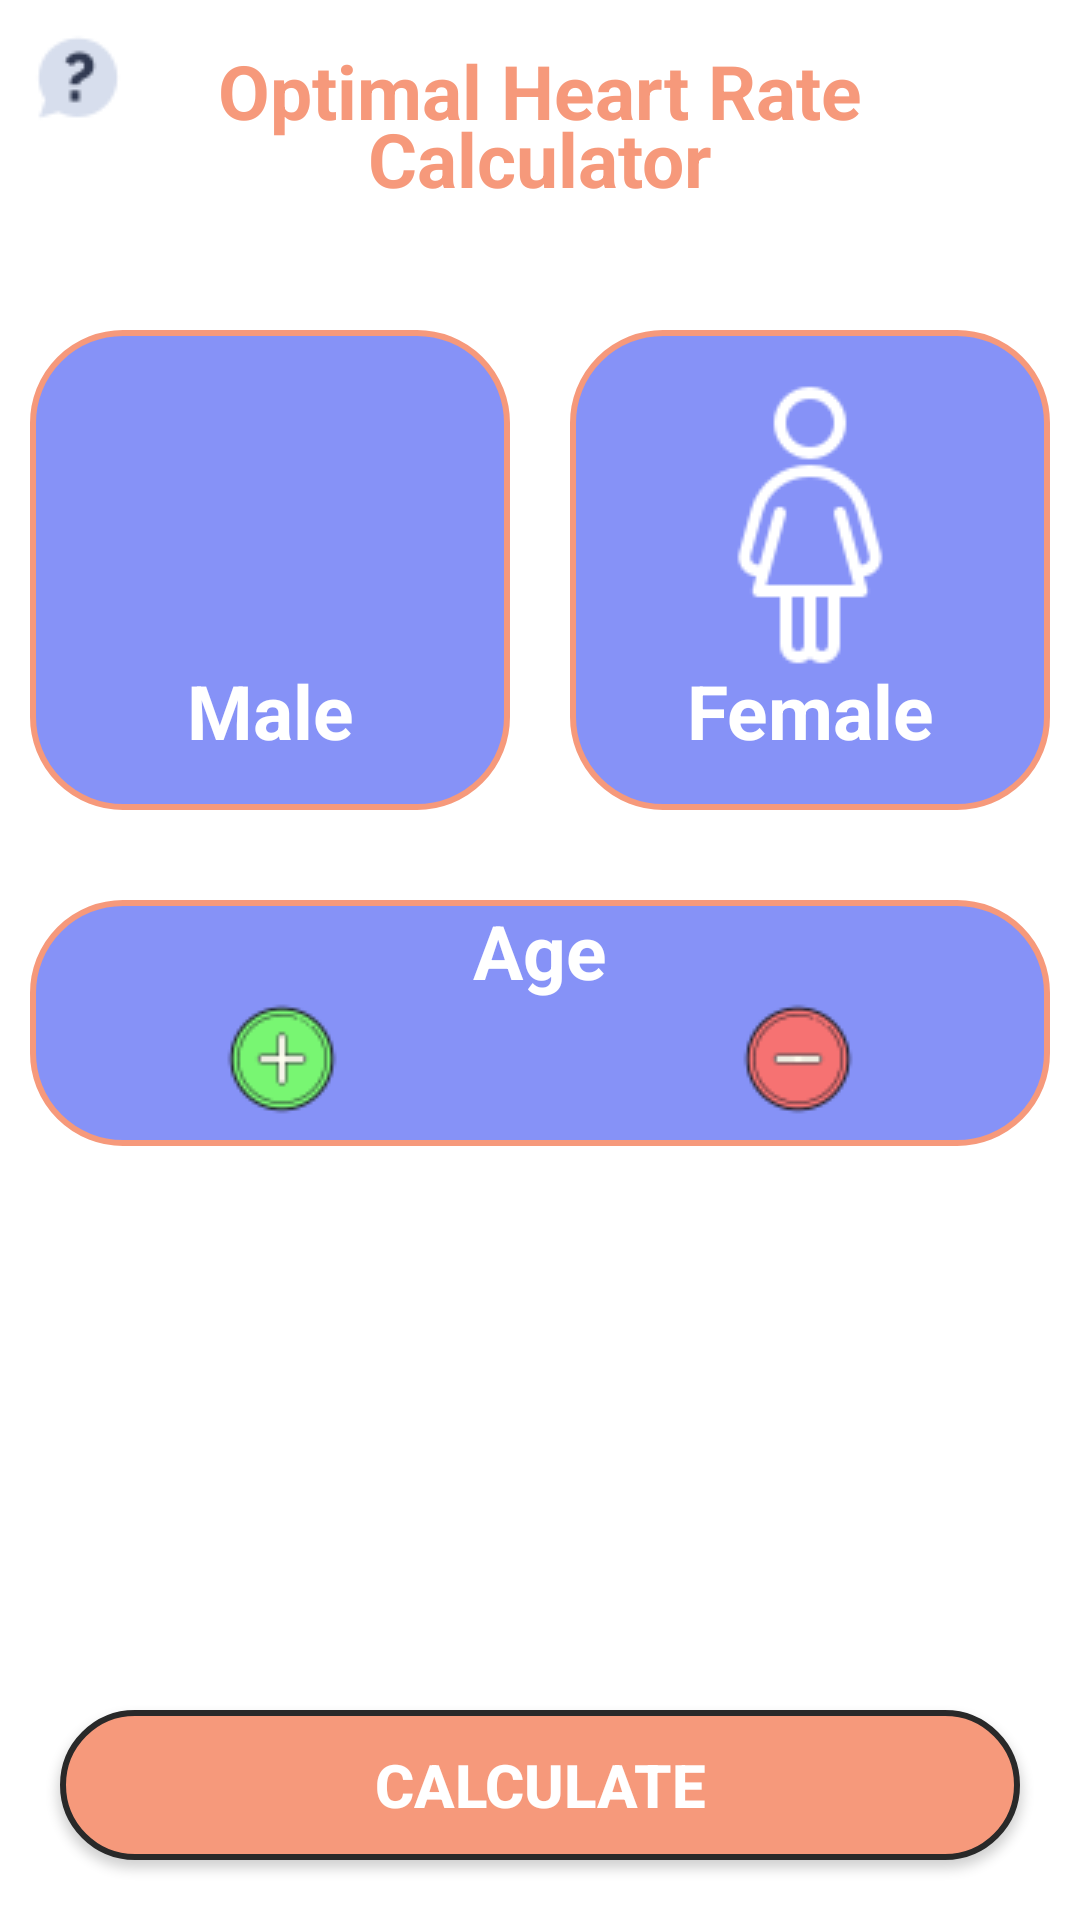

Icons on this 1080 × 1920 Android screen, each with the point to tap as (x,y):
Help: (78,78)
minus: (798,1059)
plus: (282,1059)
